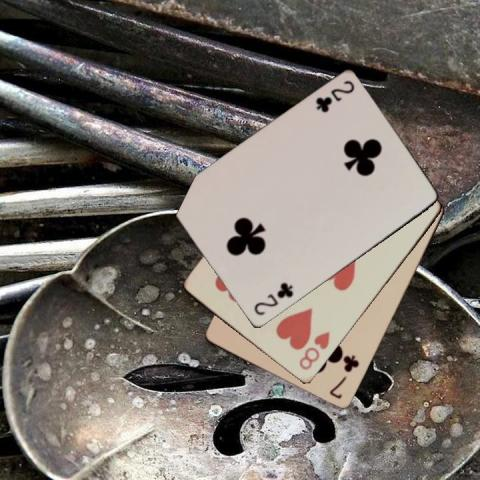2c: (312, 77, 356, 115), (251, 280, 294, 317)
7c: (326, 352, 360, 401)
8h: (296, 329, 331, 372)
